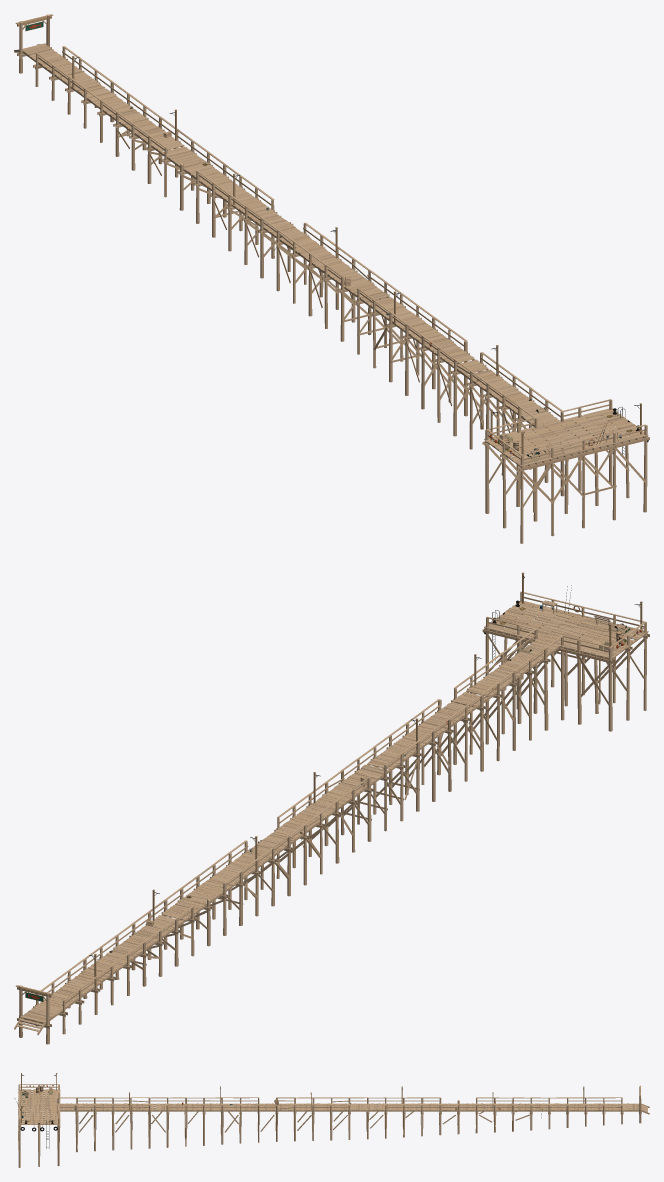
Rendered from timber-pier.glb.
3 views of the same model, one above another, from view 1: azimuth 30°, elevation 25°; view 2: azimuth 150°, elevation 25°; view 3: azimuth 270°, elevation 25° (orthographic). The views are drawn at different scales.
Parts seen in each view (by area): view 1: Beach hut pier; view 2: Beach hut pier; view 3: Beach hut pier.
Boxes of the visible parts, left/top/right/bottom form: Beach hut pier: left=14, top=14, right=649, bottom=543; Beach hut pier: left=14, top=572, right=649, bottom=1044; Beach hut pier: left=14, top=1073, right=649, bottom=1167.
Size of the model in its own units: 14.3 by 11.33 by 106.
